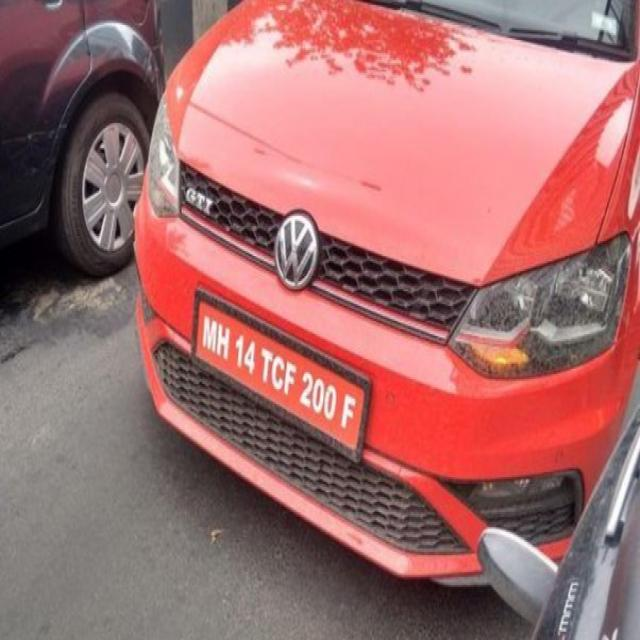plate: (186, 272, 372, 466)
